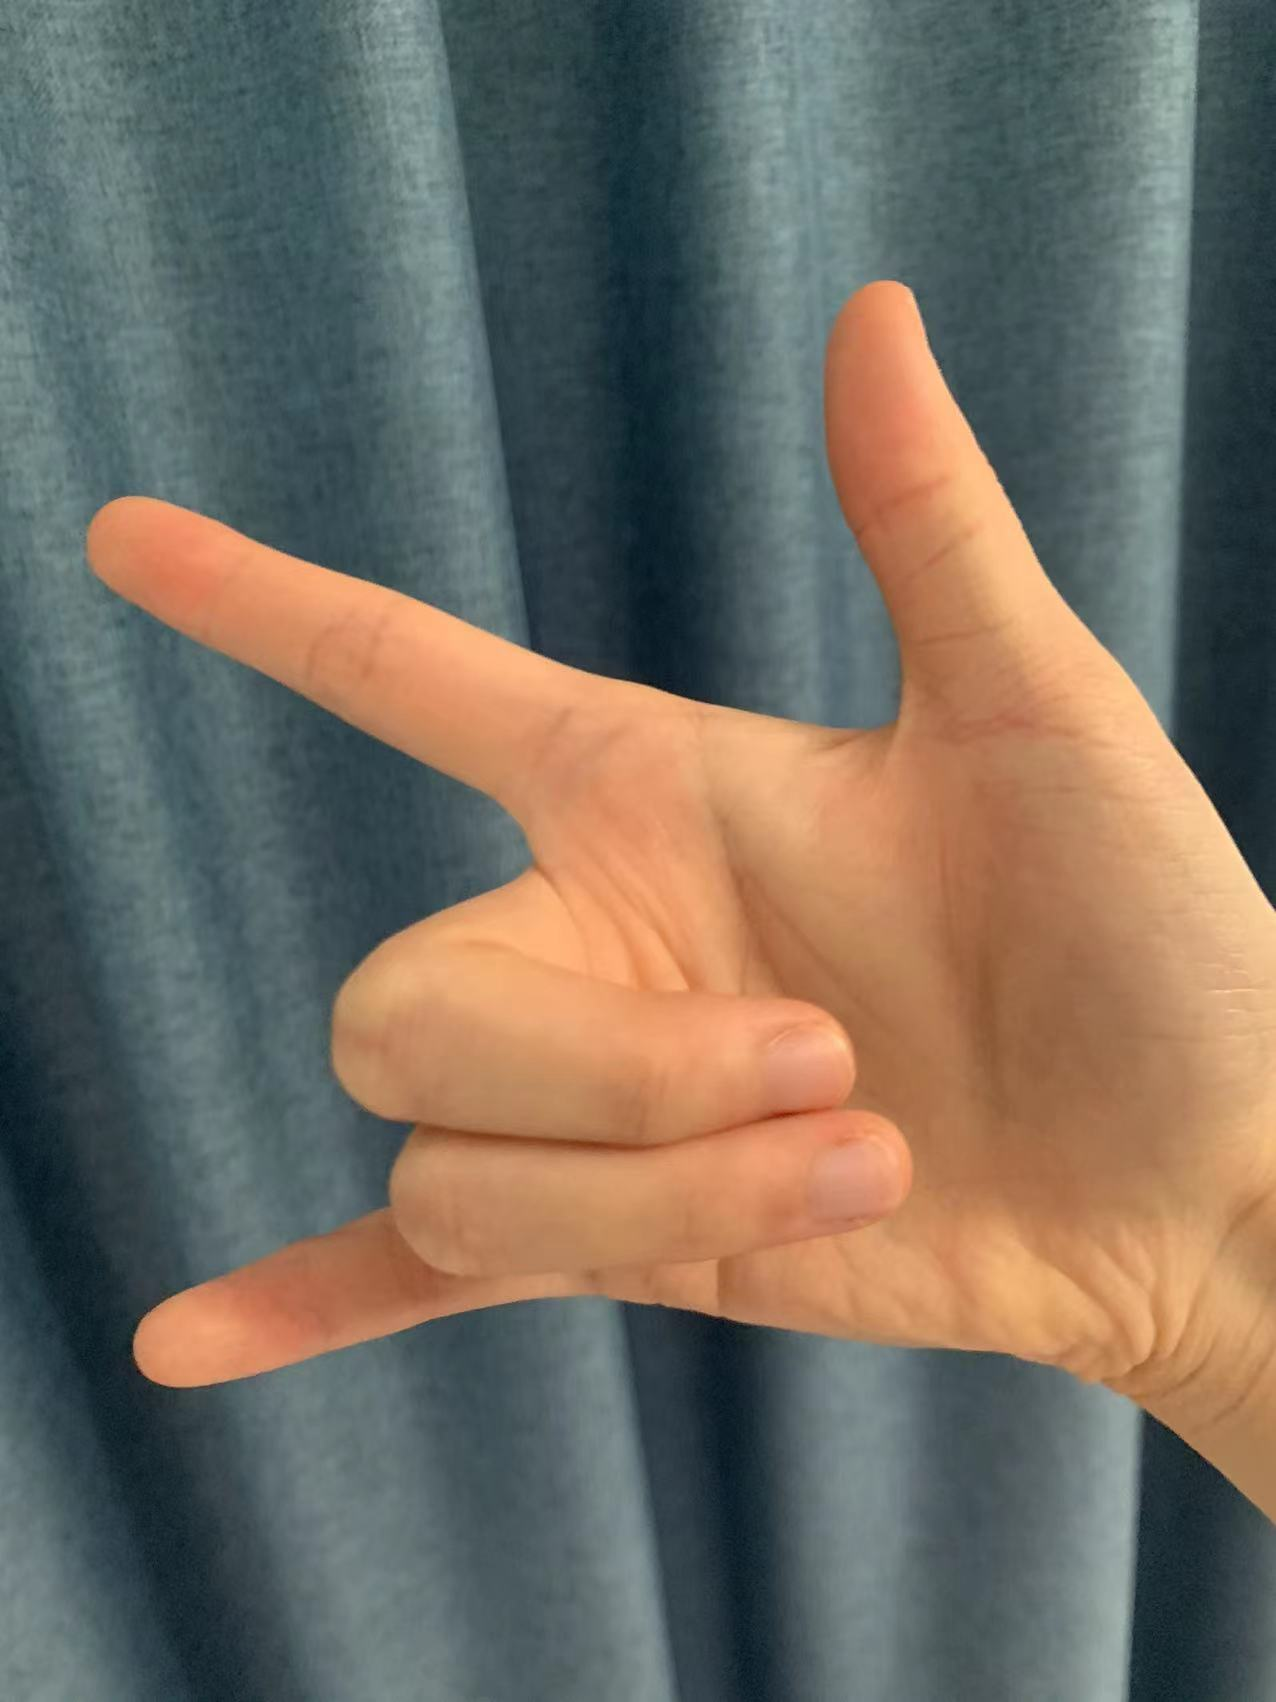back: (68, 264, 1184, 1400)
